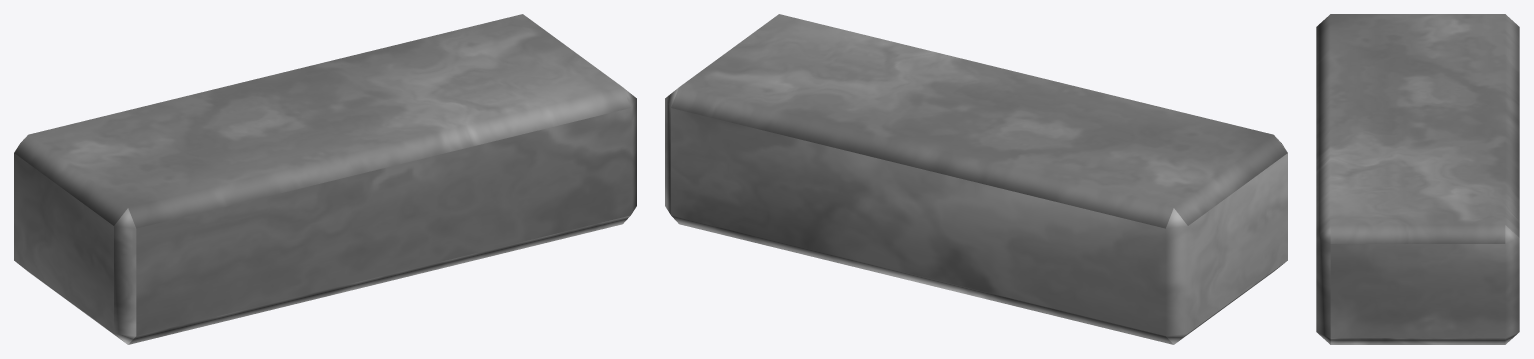
File: SM_floor_bricks_01.fbx
3 renders of one model, left to right at view 1: azimuth 30°, elevation 25°; view 2: azimuth 150°, elevation 25°; view 3: azimuth 270°, elevation 25°, orthographic. The views are drawn at different scales.
Visible parts, largest first — view 1: SM_floor_bricks_01; view 2: SM_floor_bricks_01; view 3: SM_floor_bricks_01.
Part boxes in pixels (x1=…): SM_floor_bricks_01: x1=14, y1=14, x2=636, y2=344; SM_floor_bricks_01: x1=665, y1=14, x2=1287, y2=344; SM_floor_bricks_01: x1=1316, y1=14, x2=1519, y2=344.
Bounding box in the file's own units: 36.94 × 14.22 × 9.26.
1 material, 1 textured.
